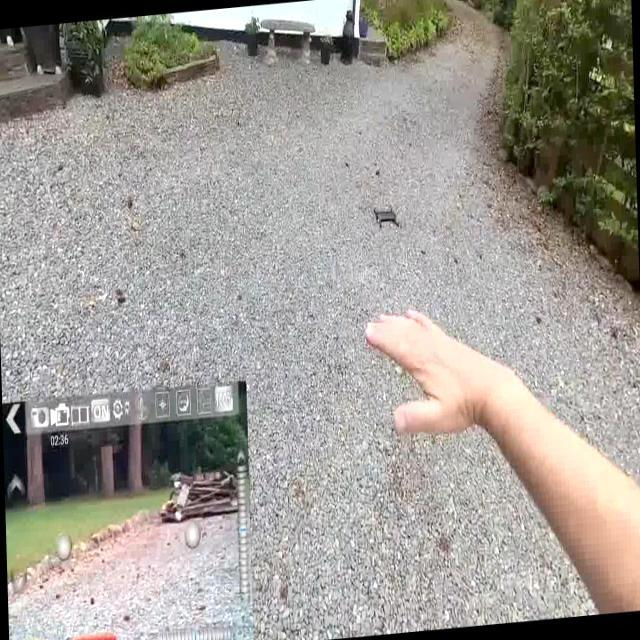drone: (370, 197, 404, 237)
